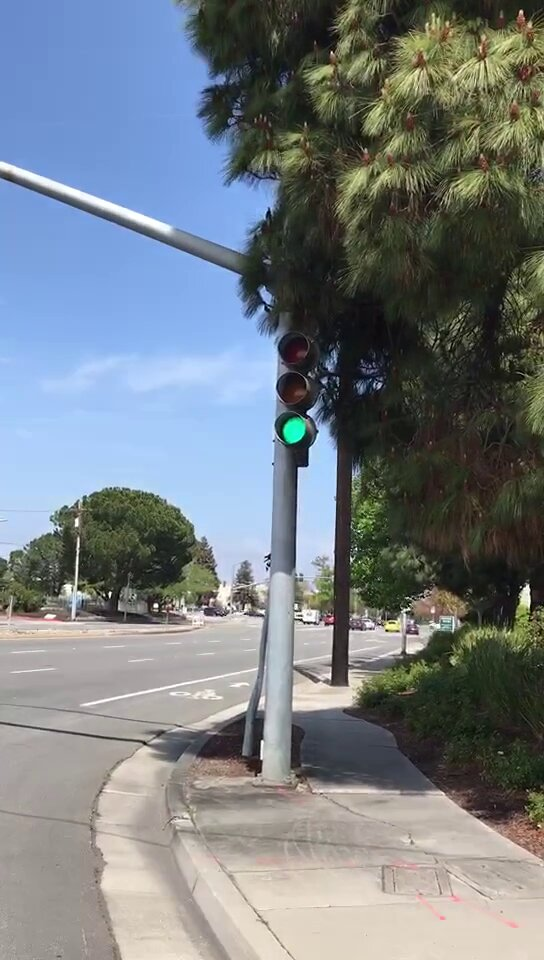green_light: (278, 335, 316, 444)
